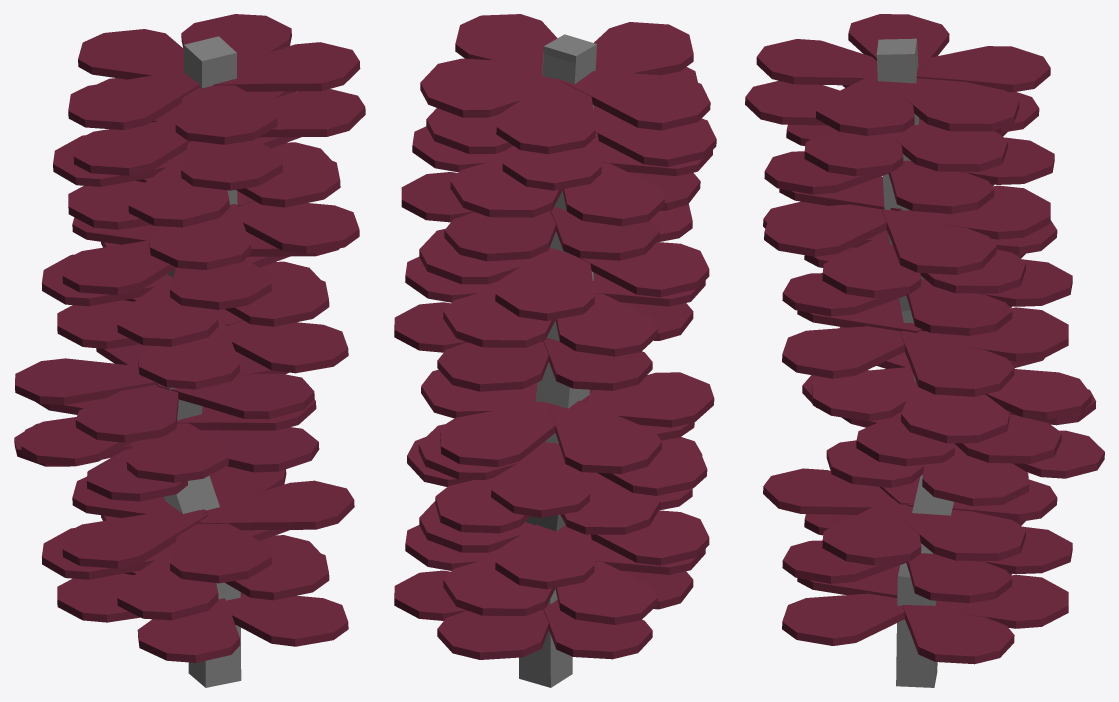
Rendered from PetalTree Original.fbx.
3 renders of one model, left to right at view 1: azimuth 30°, elevation 25°; view 2: azimuth 150°, elevation 25°; view 3: azimuth 270°, elevation 25°, orthographic. The views are drawn at different scales.
Parts seen in each view (by area): view 1: Cube.003; view 2: Cube.003; view 3: Cube.003.
Boxes of the visible parts, left/top/right/bottom form: Cube.003: left=14, top=14, right=365, bottom=687; Cube.003: left=394, top=14, right=716, bottom=687; Cube.003: left=745, top=14, right=1104, bottom=687.
Size of the model in its own units: 462 by 948 by 493.
